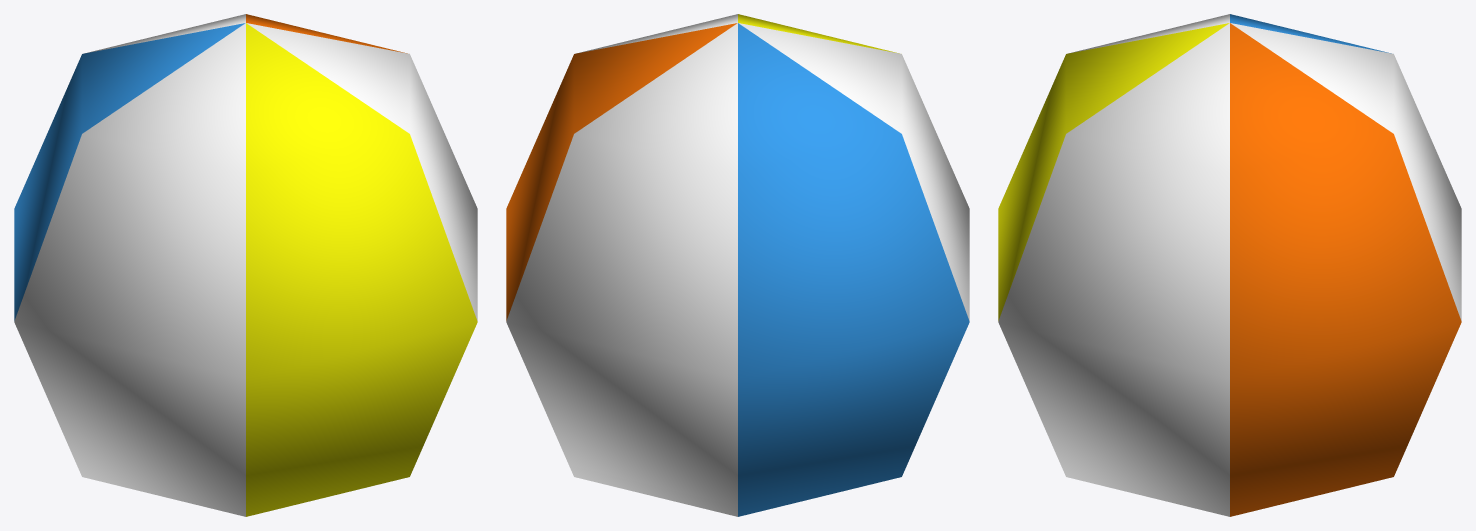
Rendered from Beachball.FBX.
3 renders of one model, left to right at view 1: azimuth 30°, elevation 25°; view 2: azimuth 150°, elevation 25°; view 3: azimuth 270°, elevation 25°, orthographic.
Visible parts, largest first — view 1: Beachball; view 2: Beachball; view 3: Beachball.
Part boxes in pixels (x1=…): Beachball: x1=14, y1=14, x2=477, y2=516; Beachball: x1=506, y1=14, x2=969, y2=516; Beachball: x1=998, y1=14, x2=1461, y2=516.
Bounding box in the file's own units: 89.26 × 89.26 × 77.3.
